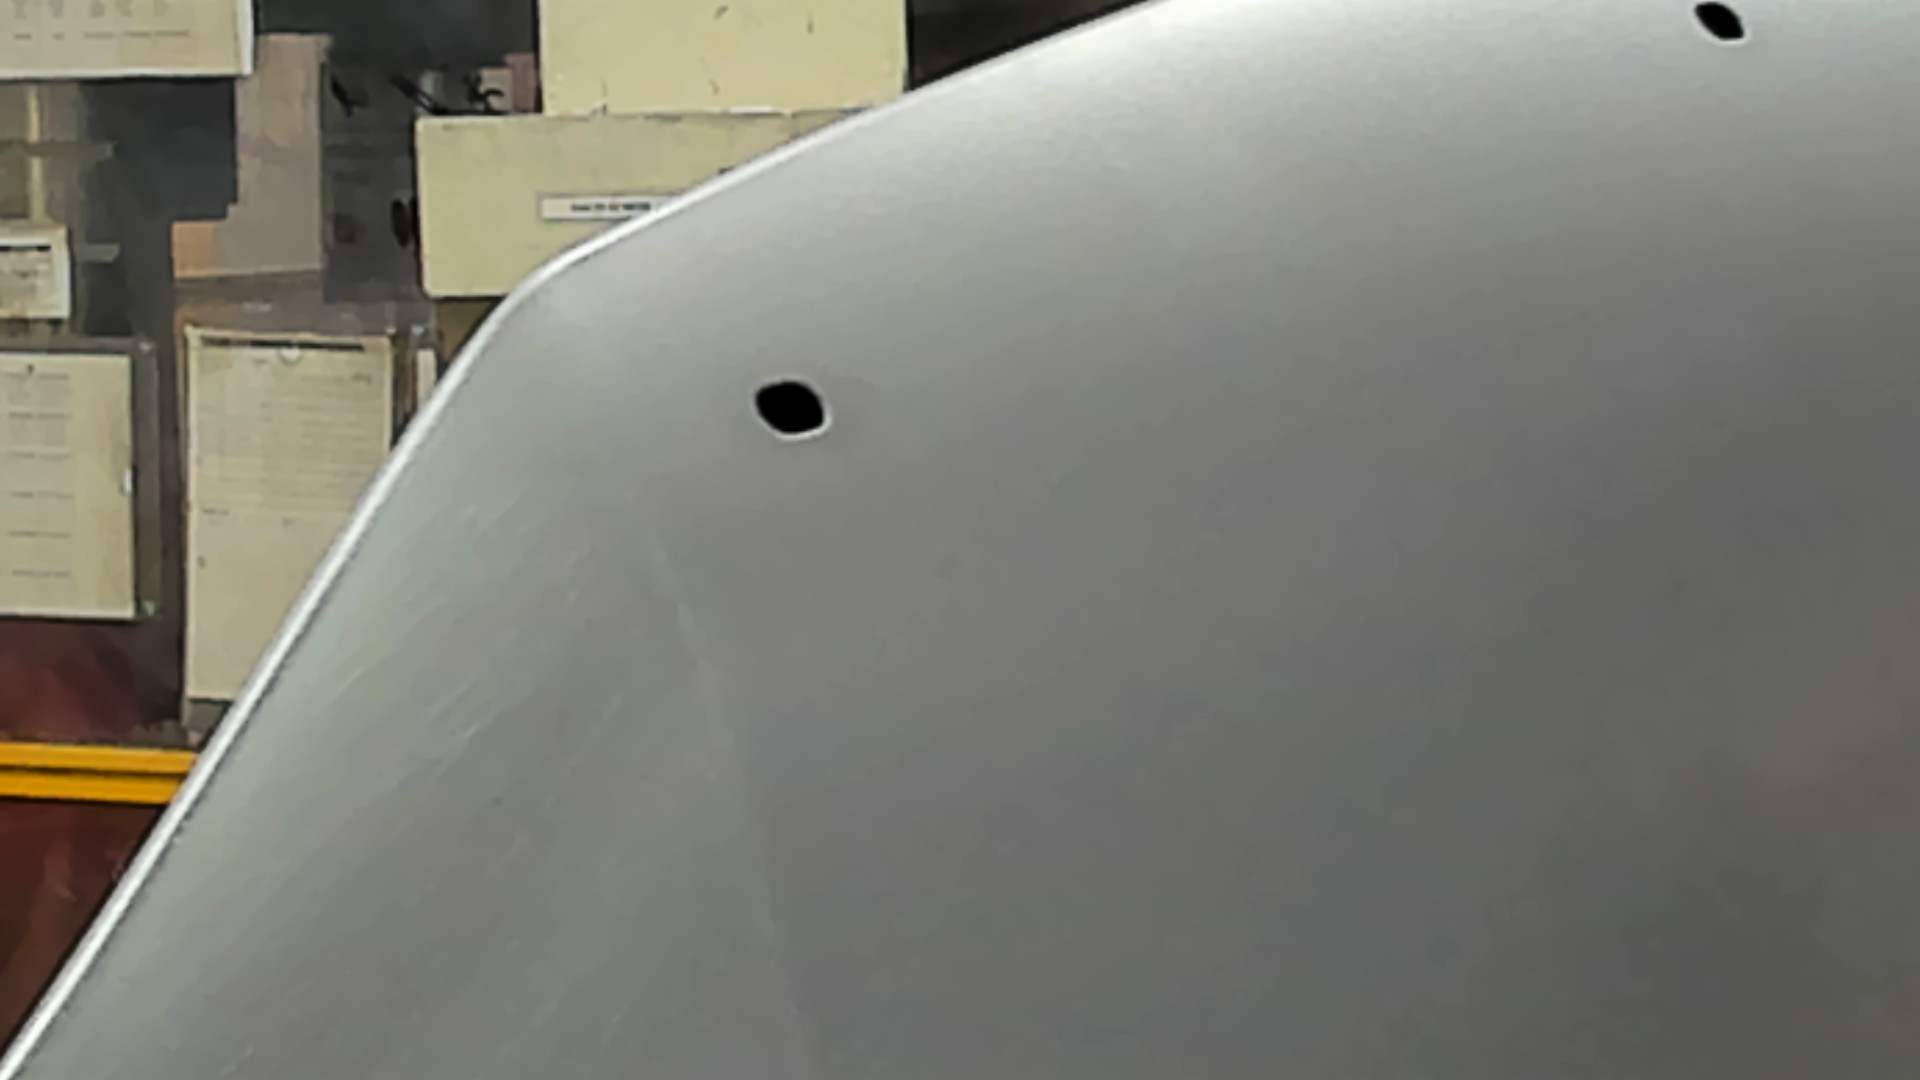amorfo: (752, 373, 833, 440), (1691, 1, 1755, 46)
